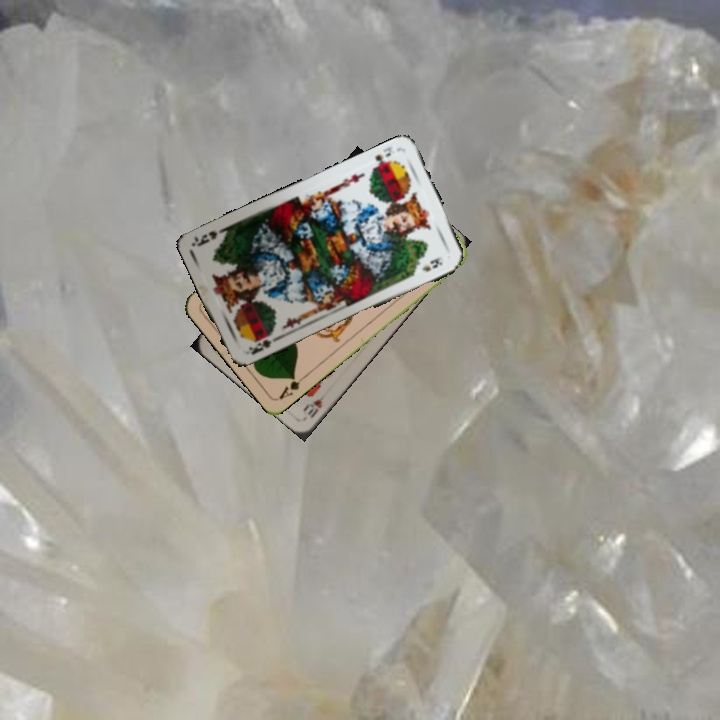GA: (275, 371, 309, 403)
H10: (299, 386, 329, 421)
SK: (369, 143, 399, 172), (245, 329, 275, 357)
